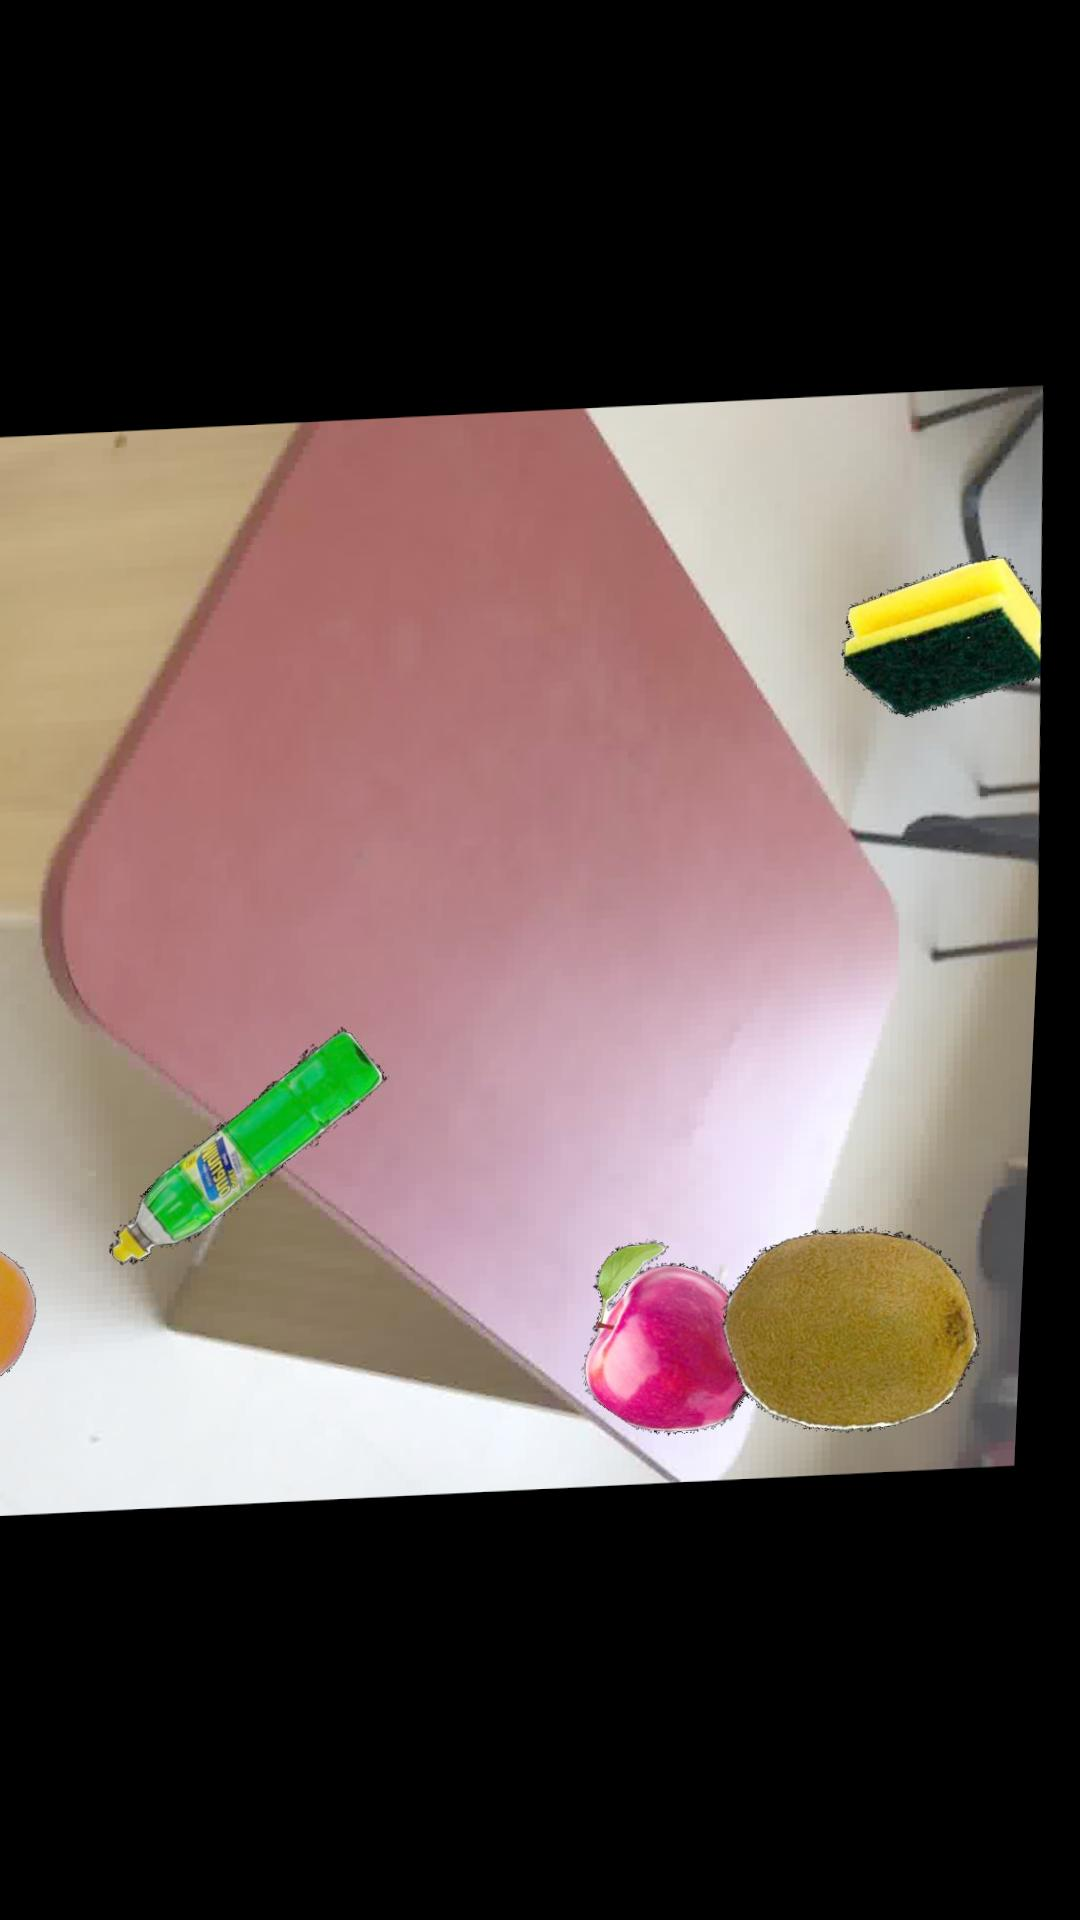apple: (599, 1242, 760, 1435)
cleaner: (121, 1026, 398, 1265)
kiwi: (735, 1230, 992, 1433)
orange: (0, 1245, 50, 1383)
sponge: (848, 556, 1047, 719)
